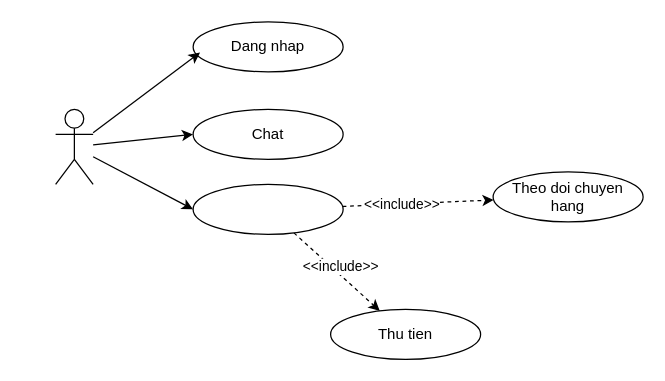
The diagram is 665 pixels wide and 381 high, and some of its shapes have lost their labels. Each missing label, with the centre of its shape:
"Nguoi ban hang" belongs at pixel 73 146.
"Quan ly don hang" belongs at pixel 267 208.
